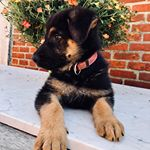puppy: (28, 4, 129, 150)
